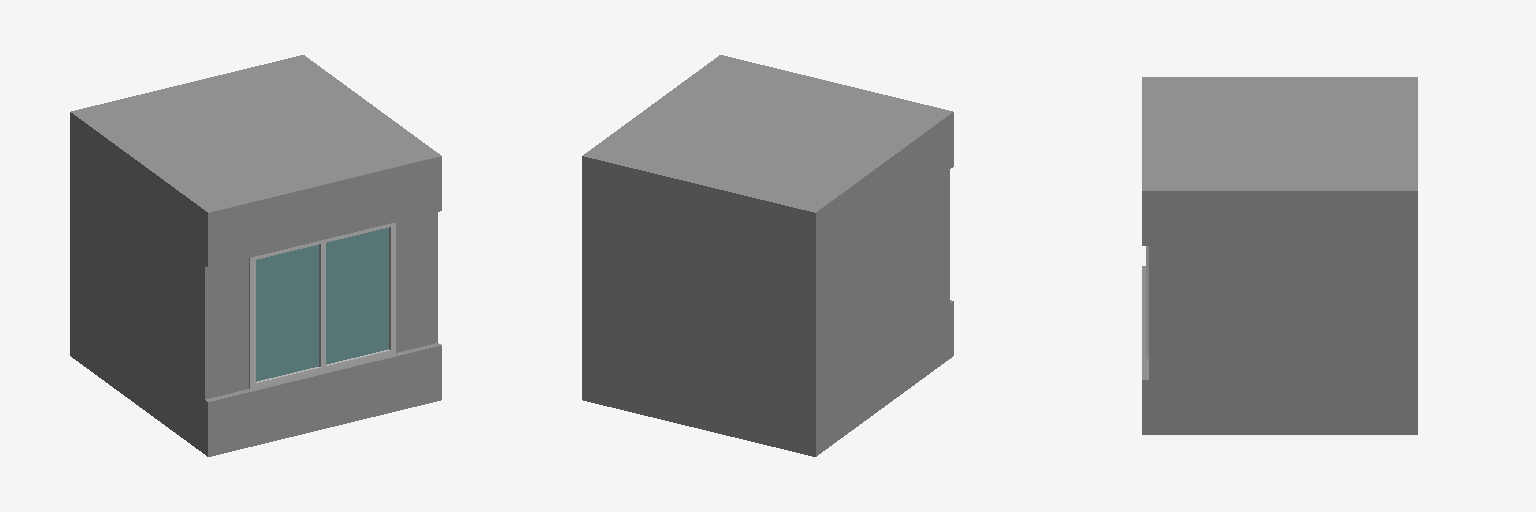
Rendered from window_1.obj.
3 renders of one model, left to right at view 1: azimuth 30°, elevation 25°; view 2: azimuth 150°, elevation 25°; view 3: azimuth 270°, elevation 25°, orthographic.
Parts seen in each view (by area): view 1: Cube, Secondary_Cube.003, Window_Cube.001, Primary_Cube.002; view 2: Cube, Secondary_Cube.003; view 3: Cube, Secondary_Cube.003.
Boxes of the visible parts, x1=… form: Cube: x1=70, y1=55, x2=437, y2=453; Secondary_Cube.003: x1=205, y1=153, x2=441, y2=456; Window_Cube.001: x1=249, y1=222, x2=395, y2=389; Primary_Cube.002: x1=205, y1=212, x2=437, y2=399; Cube: x1=582, y1=57, x2=949, y2=456; Secondary_Cube.003: x1=718, y1=55, x2=953, y2=358; Cube: x1=1149, y1=77, x2=1417, y2=434; Secondary_Cube.003: x1=1142, y1=77, x2=1148, y2=434.
Size of the model in its own units: 2 by 2 by 2.05.